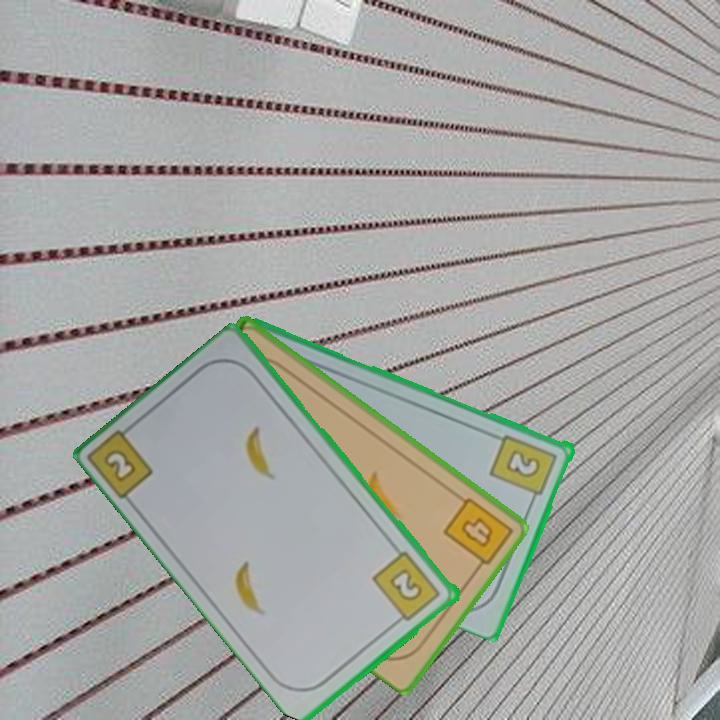2b: (369, 547, 444, 628), (487, 430, 561, 506), (100, 445, 140, 485)
4b: (440, 493, 515, 575)
